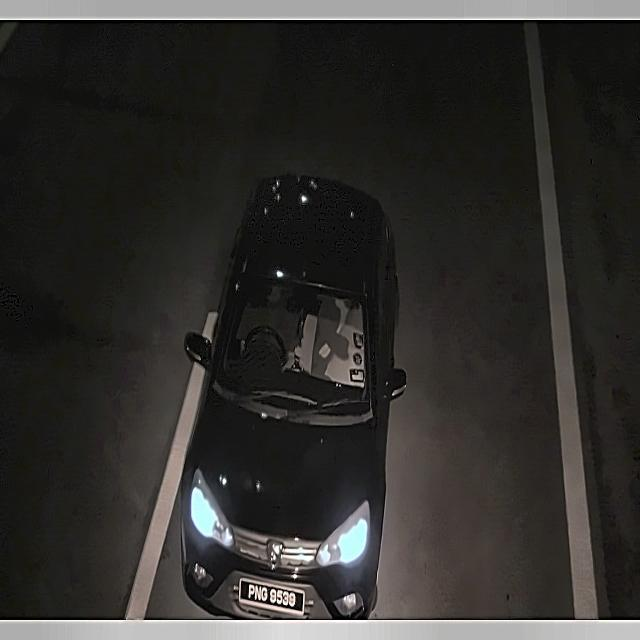car: (237, 573, 307, 622)
